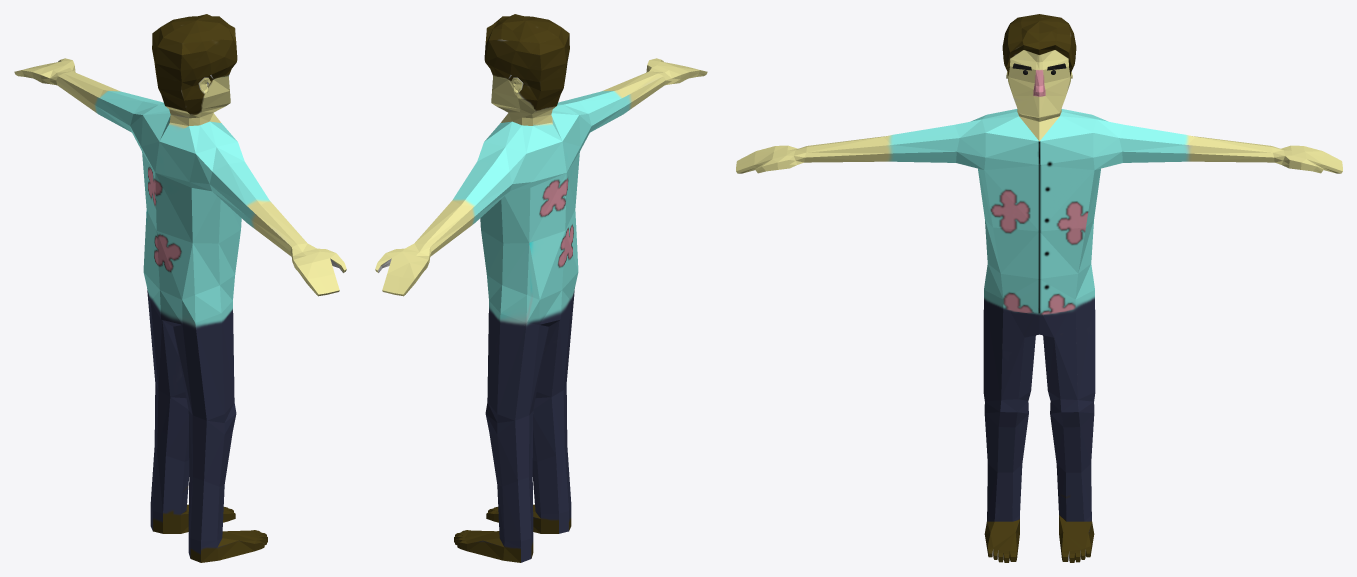
File: professor.fbx
3 views of the same model, side by side, from view 1: azimuth 30°, elevation 25°; view 2: azimuth 150°, elevation 25°; view 3: azimuth 270°, elevation 25° (orthographic).
Parts seen in each view (by area): view 1: Human_Mesh; view 2: Human_Mesh; view 3: Human_Mesh.
Part boxes in pixels (left/top/right/bottom): Human_Mesh: left=14, top=14, right=346, bottom=562; Human_Mesh: left=375, top=14, right=707, bottom=562; Human_Mesh: left=736, top=14, right=1342, bottom=562.
Bounding box in the file's own units: 152 × 800 × 852.
1 material, 1 textured.
